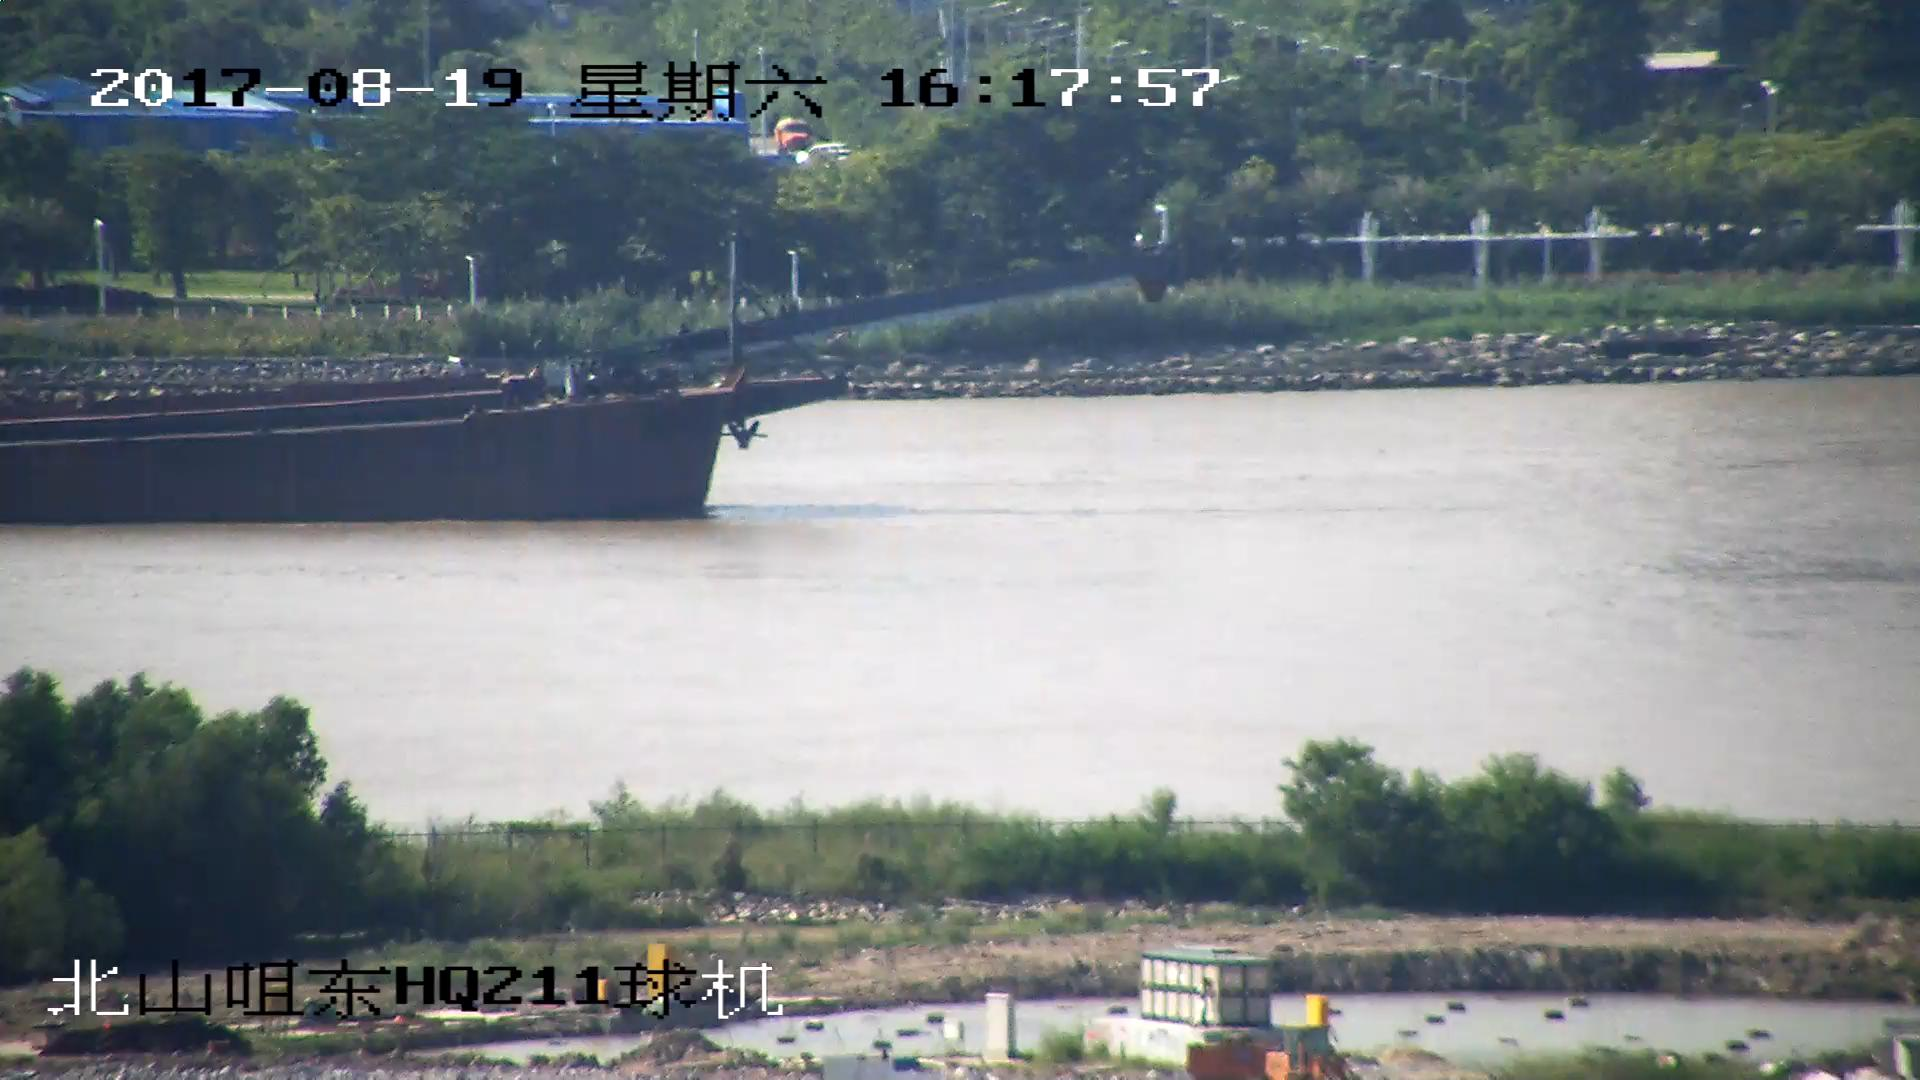bulk cargo carrier: (1, 224, 1165, 529)
